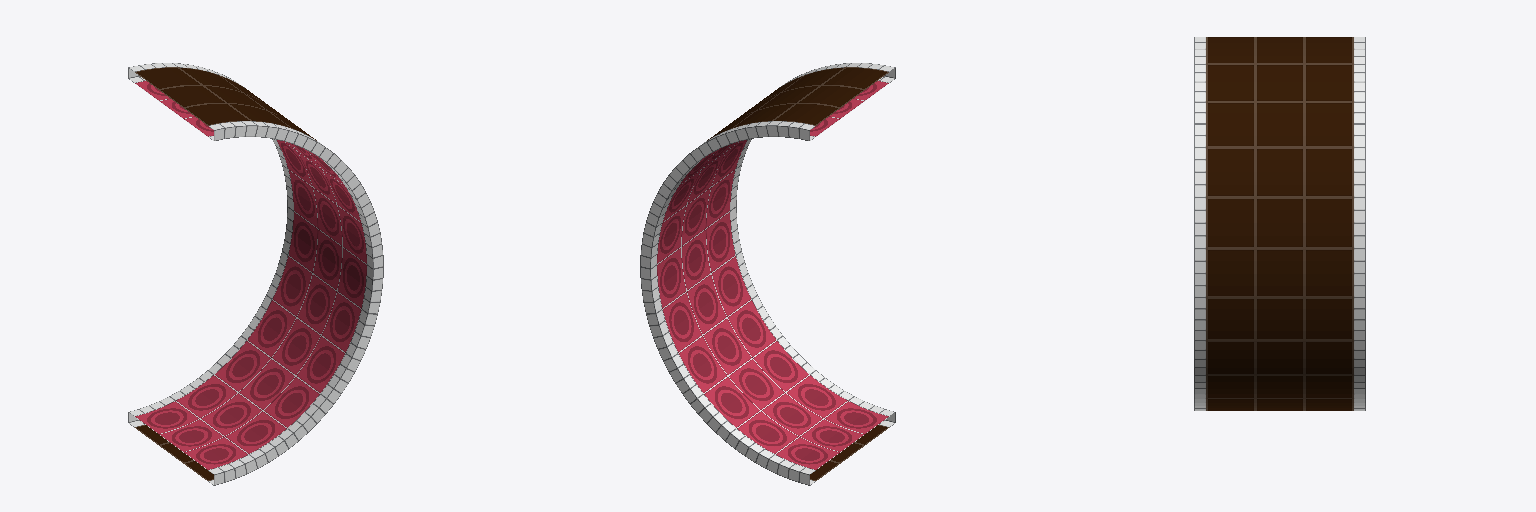
3 views of the same model, side by side, from view 1: azimuth 30°, elevation 25°; view 2: azimuth 150°, elevation 25°; view 3: azimuth 270°, elevation 25° (orthographic).
Parts seen in each view (by area): view 1: MinorAscentCurve2; view 2: MinorAscentCurve2; view 3: MinorAscentCurve2.
Part boxes in pixels (bbox=[...]): MinorAscentCurve2: bbox=[128, 63, 383, 485]; MinorAscentCurve2: bbox=[640, 63, 895, 485]; MinorAscentCurve2: bbox=[1194, 37, 1365, 410].
Size of the model in its own units: 8 by 16 by 7.
3 materials, 3 textured.